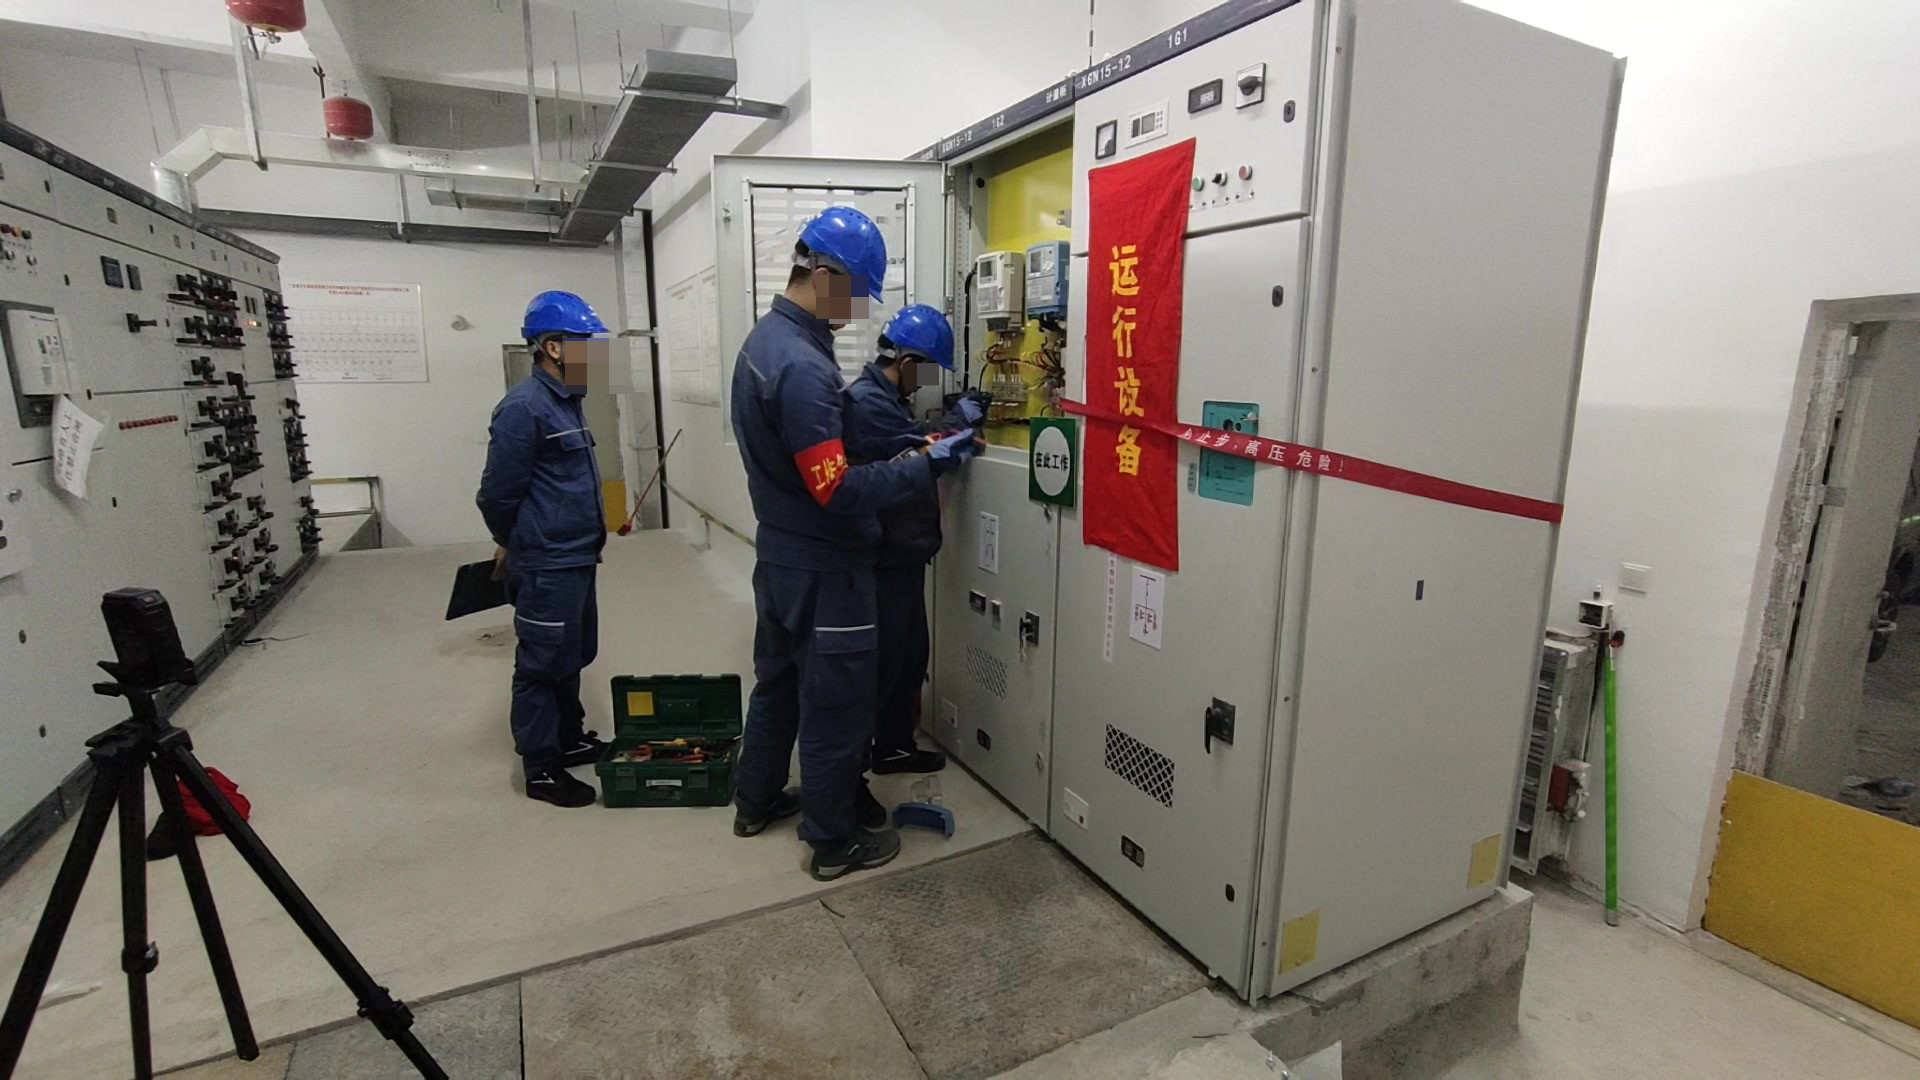badge: (794, 436, 853, 507)
downsuit: (736, 566, 928, 833), (507, 577, 600, 767)
glove: (926, 423, 991, 474)
halt: (789, 205, 890, 320), (520, 289, 610, 381), (877, 303, 955, 385)
inear: (797, 261, 847, 323), (532, 329, 576, 381), (886, 345, 921, 397)
person: (726, 201, 903, 852), (471, 285, 621, 800)
upsuit: (732, 301, 911, 558), (477, 371, 611, 565)
worksign: (1023, 411, 1078, 516)
